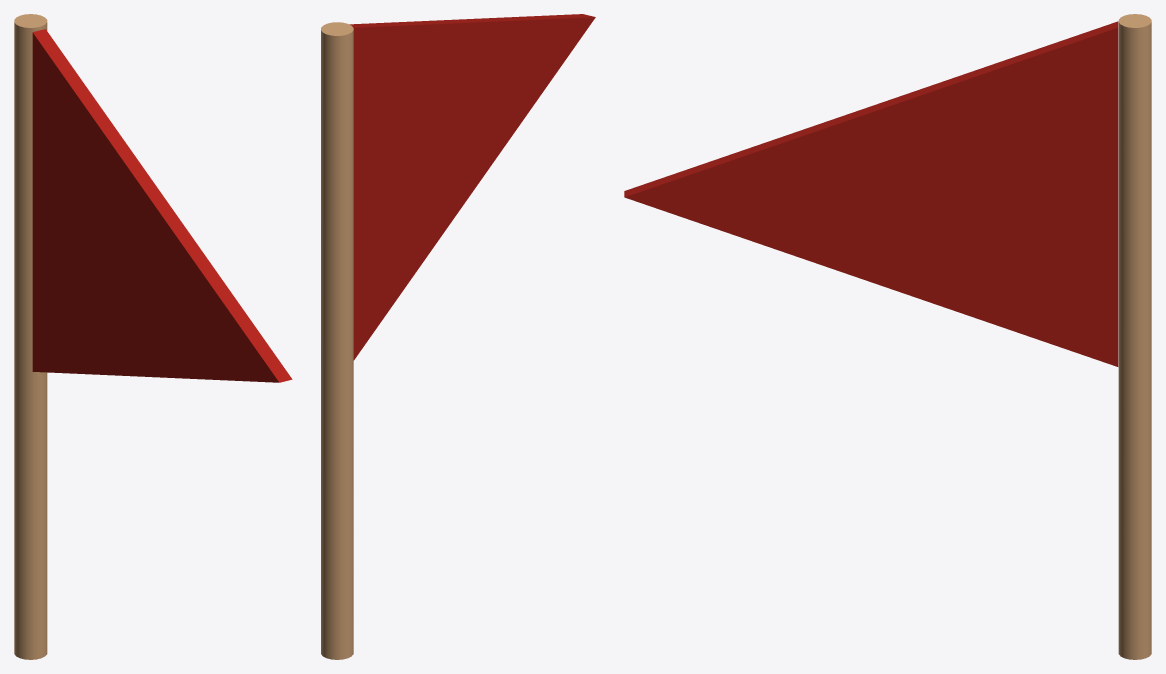
The model's file is Flag001.fbx.
3 views of the same model, side by side, from view 1: azimuth 30°, elevation 25°; view 2: azimuth 150°, elevation 25°; view 3: azimuth 270°, elevation 25° (orthographic).
Parts seen in each view (by area): view 1: Box059; view 2: Box059; view 3: Box059.
Part boxes in pixels (left/top/right/bottom): Box059: left=14, top=14, right=292, bottom=659; Box059: left=321, top=14, right=595, bottom=659; Box059: left=624, top=14, right=1151, bottom=659.
Size of the model in its own units: 5.1 by 107 by 80.65.
Materials: 2 (2 with a texture image).
